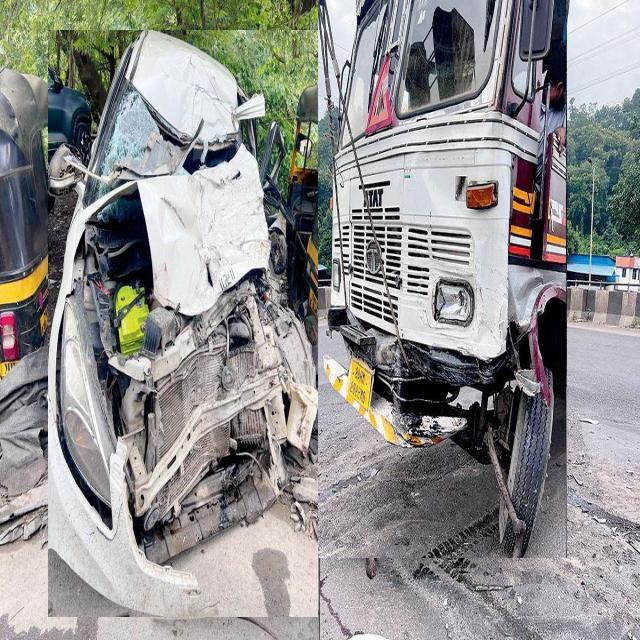accident: (49, 31, 318, 617), (319, 0, 567, 558)
